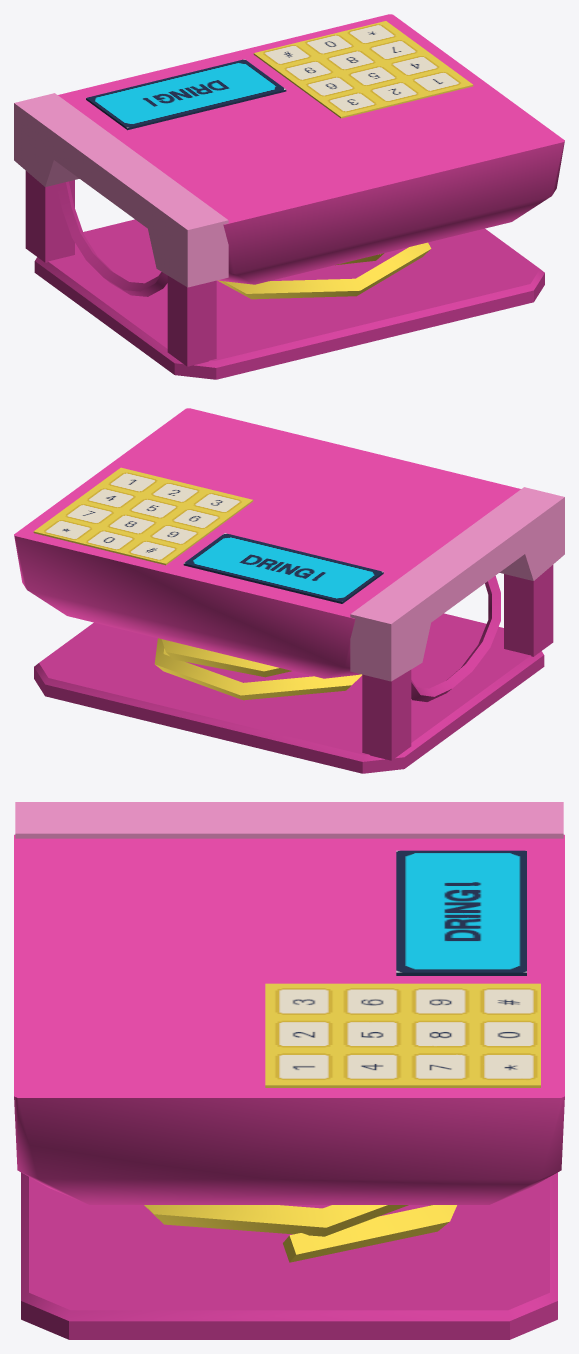
The model's file is bureau_spring_phone_lod1.glb.
The picture shows the model from 3 angles, top to bottom: view 1: azimuth 30°, elevation 25°; view 2: azimuth 150°, elevation 25°; view 3: azimuth 270°, elevation 25°; orthographic projection. The views are drawn at different scales.
Visible parts, largest first — view 1: bureau_spring_phone_LOD1; view 2: bureau_spring_phone_LOD1; view 3: bureau_spring_phone_LOD1.
Boxes of the visible parts, box(x1,y1,x2,y2) form: bureau_spring_phone_LOD1: box(14, 14, 564, 379); bureau_spring_phone_LOD1: box(14, 408, 564, 773); bureau_spring_phone_LOD1: box(14, 802, 564, 1339).
Bounding box in the file's own units: 10 × 4 × 8.
1 material, 1 textured.
